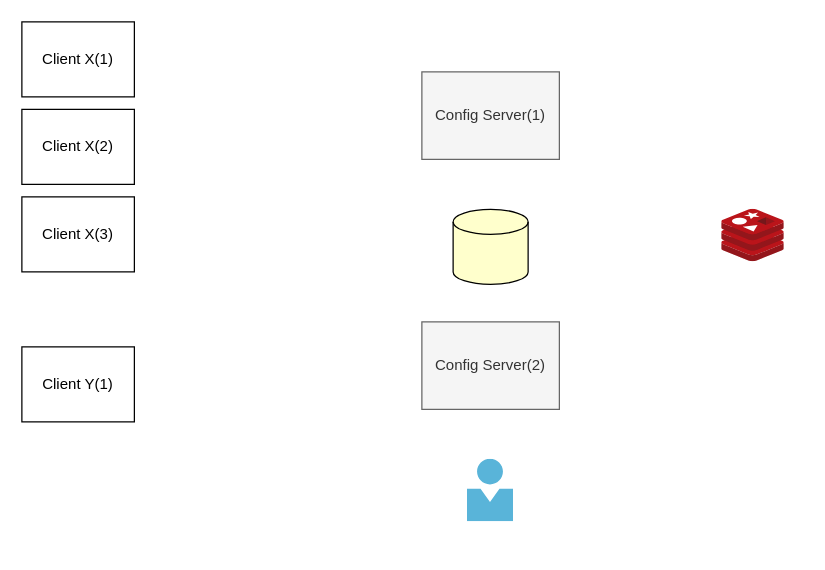
Some shapes in this 825 by 570 pixel diagram are drawn without their labels. The box of each missing label's shape, as (x1, y1, x2, y2) in pixels:
Config Admin: (467, 459, 513, 521)
Database: (452, 208, 528, 284)
Redis Pub/Sub: (721, 209, 784, 261)
